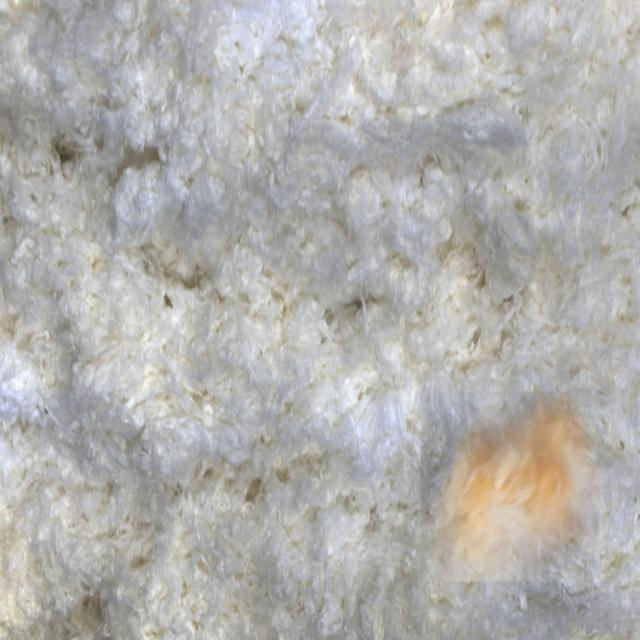dust: (421, 391, 599, 582)
